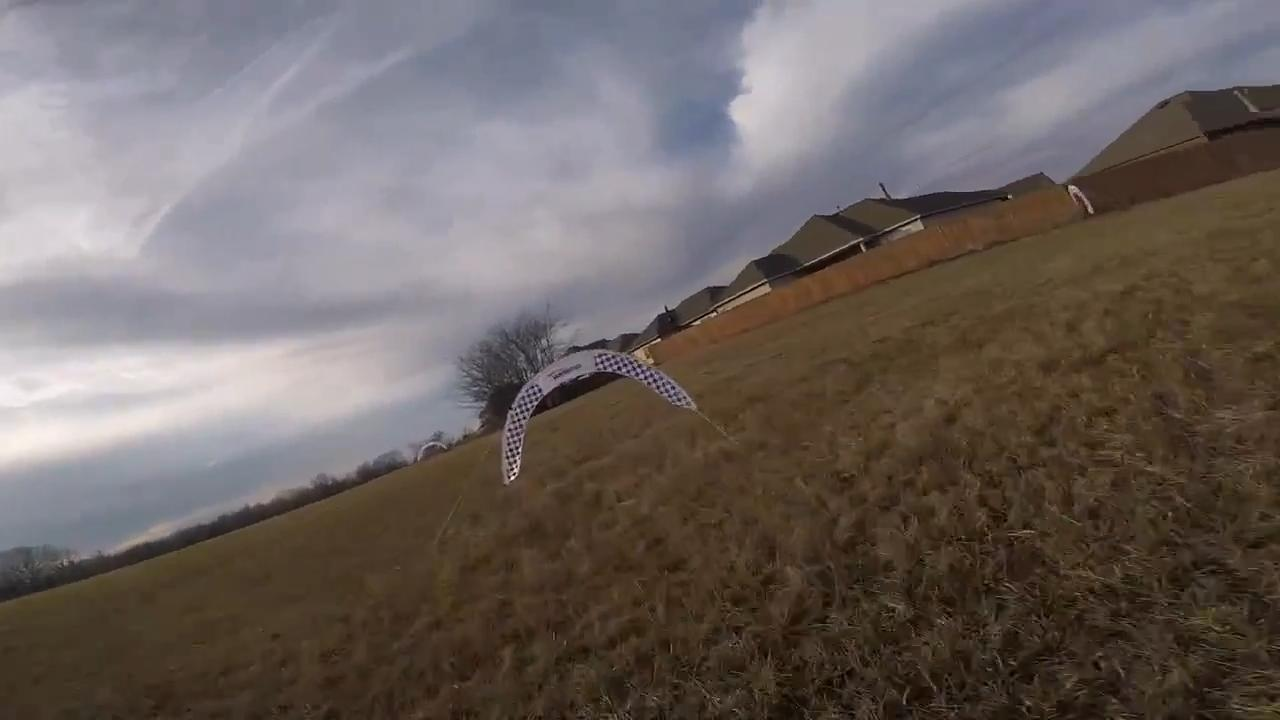gate: (498, 345, 701, 485)
